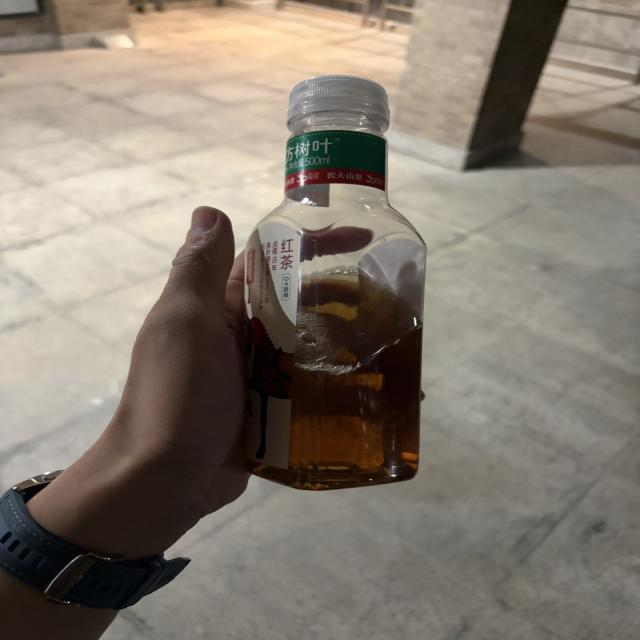medium: (244, 75, 426, 490)
